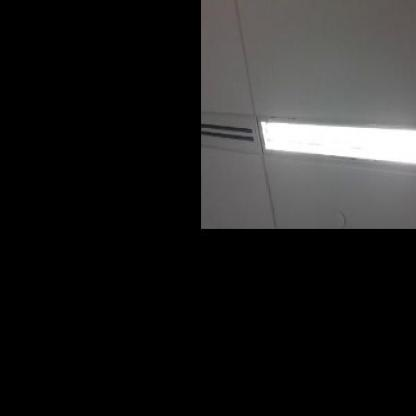light_on: (257, 97, 416, 202)
